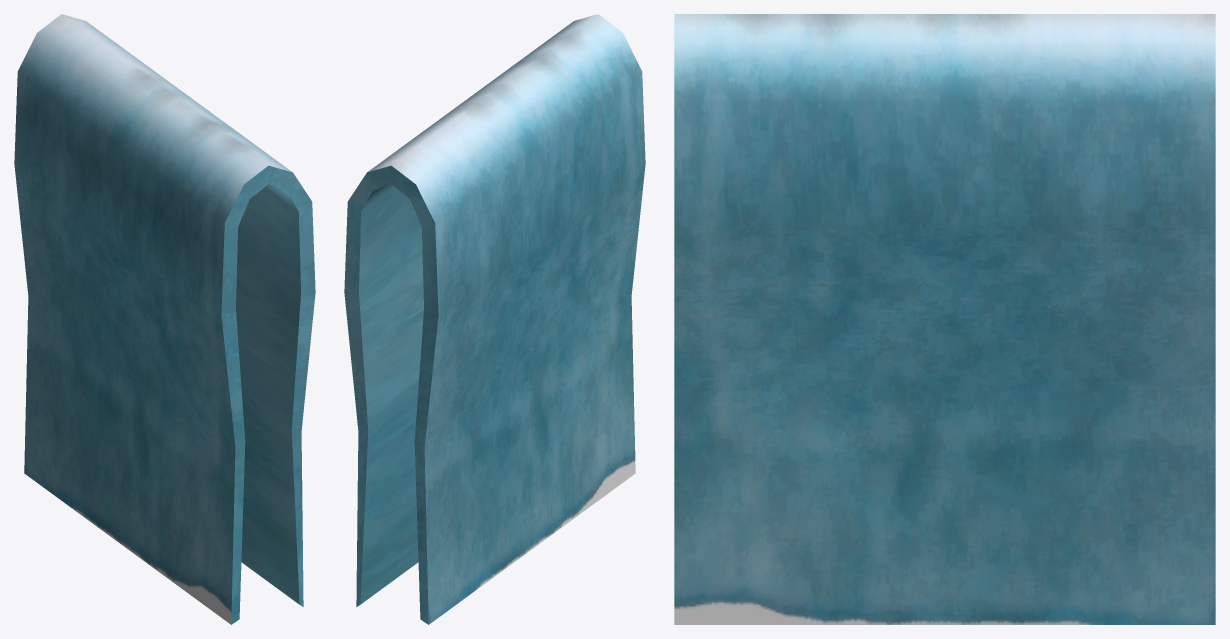
Rendered from Towel_Kitchen.fbx.
3 views of the same model, side by side, from view 1: azimuth 30°, elevation 25°; view 2: azimuth 150°, elevation 25°; view 3: azimuth 270°, elevation 25° (orthographic). The views are drawn at different scales.
Parts seen in each view (by area): view 1: Kitchen_Cloth1; view 2: Kitchen_Cloth1; view 3: Kitchen_Cloth1.
Part boxes in pixels (box(x1,y1,x2,y2)): Kitchen_Cloth1: box(14, 14, 315, 624); Kitchen_Cloth1: box(344, 14, 645, 624); Kitchen_Cloth1: box(674, 14, 1215, 624).
Size of the model in its own units: 9.79 by 44.71 by 37.26.
